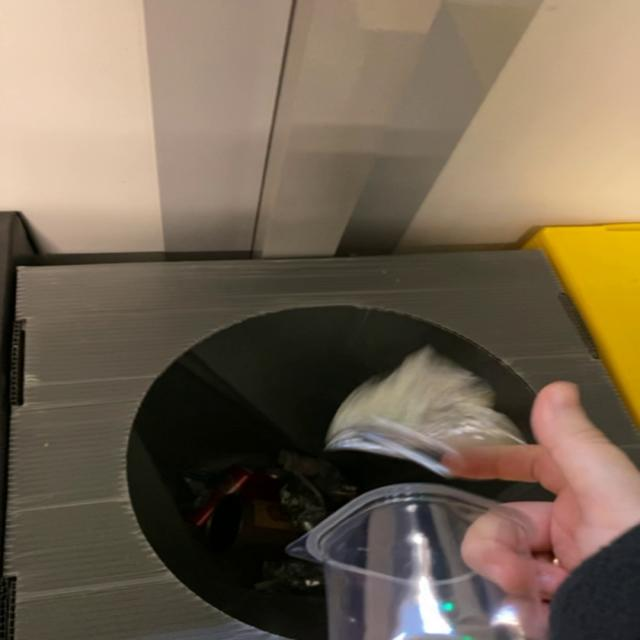bin: (4, 250, 639, 640)
metal: (325, 345, 526, 478)
